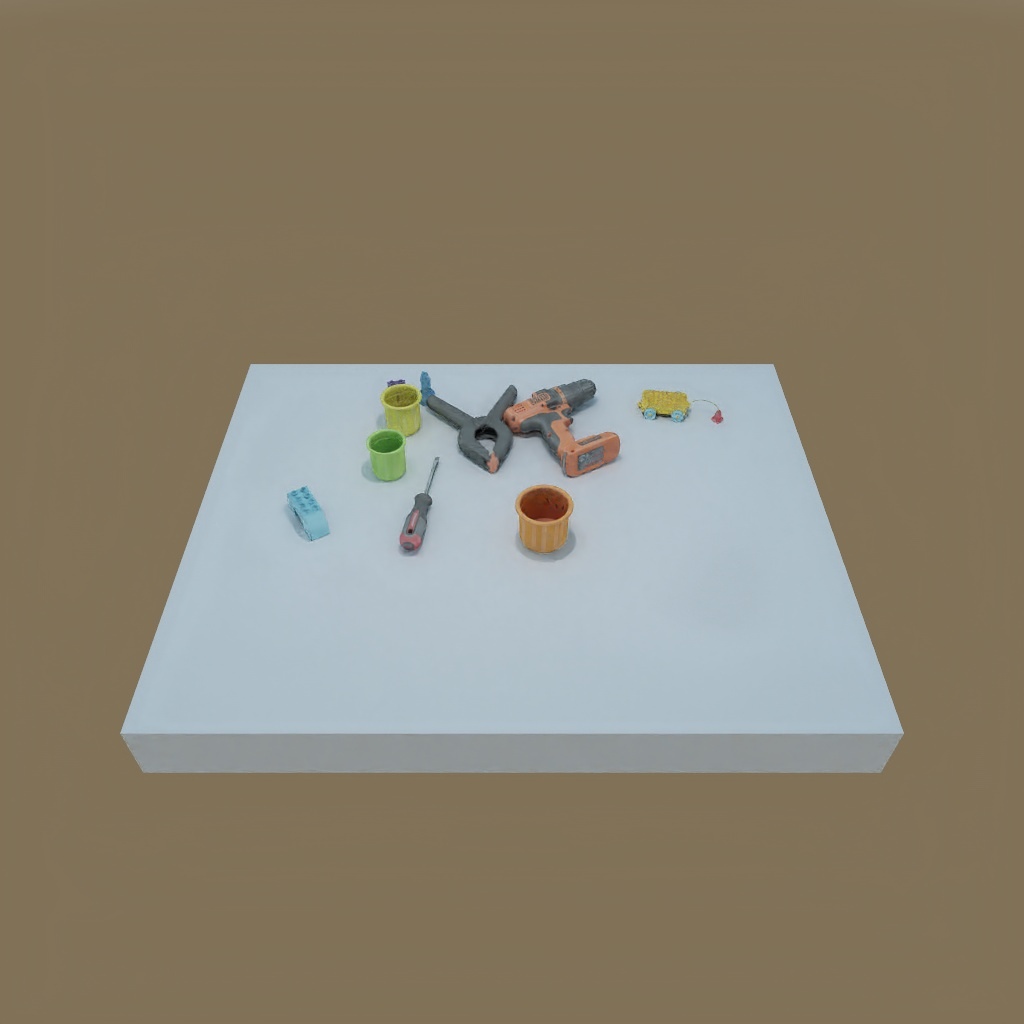power_drill: (504, 376, 620, 471)
